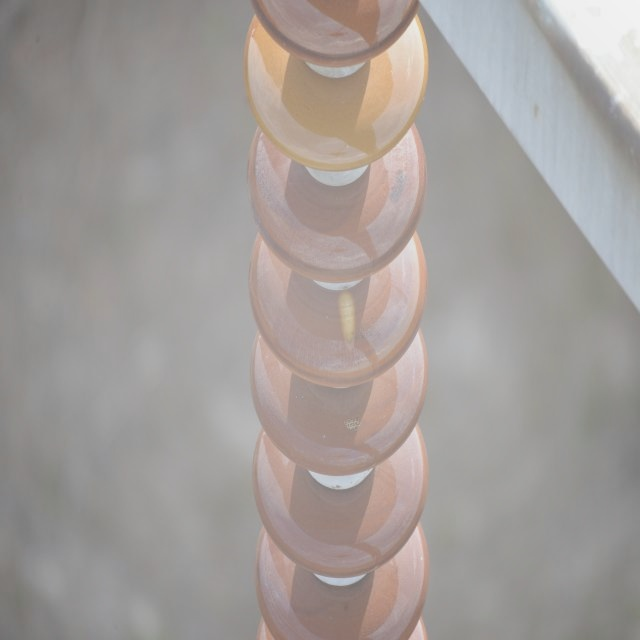insulator: (244, 0, 432, 640)
